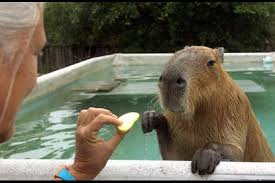capivara: (142, 45, 275, 174)
